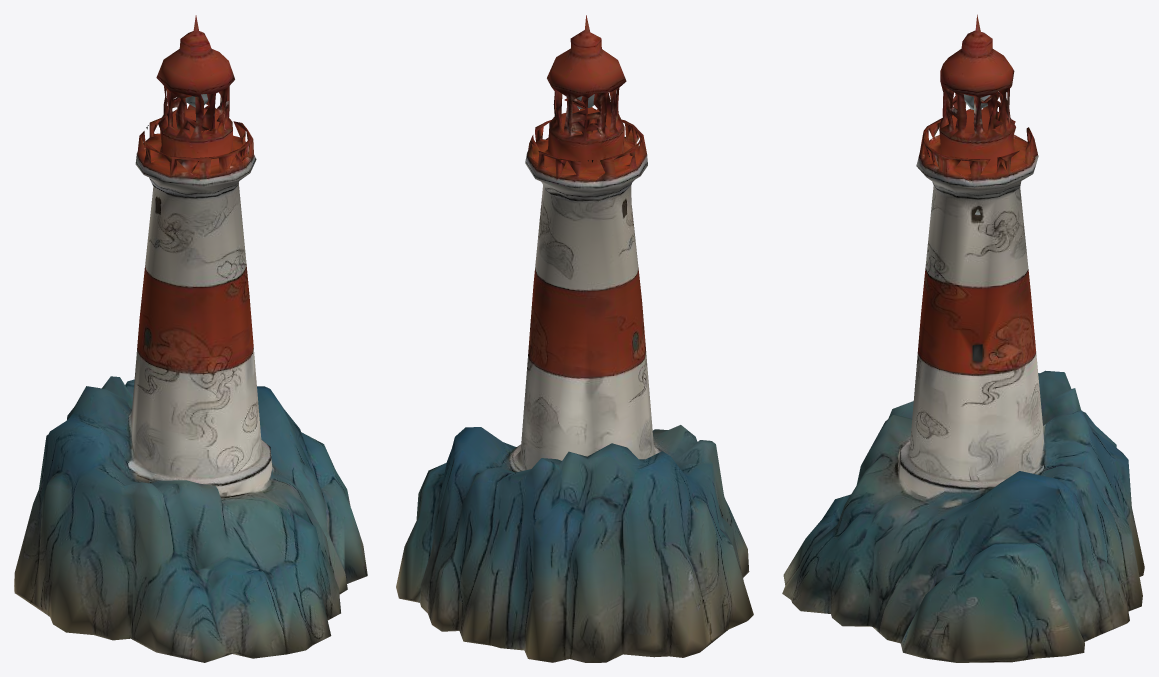
The model's file is demo_lighthouse_shanhai.glb.
The picture shows the model from 3 angles, left to right: view 1: azimuth 30°, elevation 25°; view 2: azimuth 150°, elevation 25°; view 3: azimuth 270°, elevation 25°; orthographic projection.
Visible parts, largest first — view 1: tripo_node_c50cc1a7-69e8-4624-a160-28220566f17b.001; view 2: tripo_node_c50cc1a7-69e8-4624-a160-28220566f17b.001; view 3: tripo_node_c50cc1a7-69e8-4624-a160-28220566f17b.001.
Boxes of the visible parts, bbox=[...] form: tripo_node_c50cc1a7-69e8-4624-a160-28220566f17b.001: bbox=[14, 15, 367, 662]; tripo_node_c50cc1a7-69e8-4624-a160-28220566f17b.001: bbox=[396, 15, 753, 662]; tripo_node_c50cc1a7-69e8-4624-a160-28220566f17b.001: bbox=[782, 14, 1144, 662].
Bounding box in the file's own units: 0.5621 × 0.9977 × 0.5709.
1 material, 1 textured.
